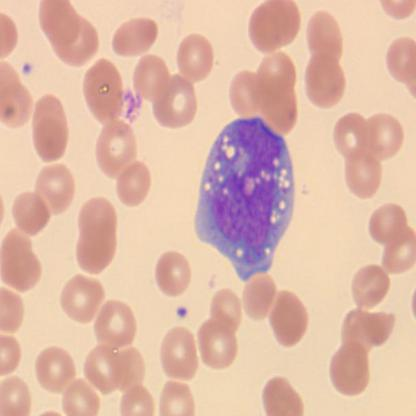Promyelocyte: (194, 121, 296, 284), (196, 278, 209, 284)
